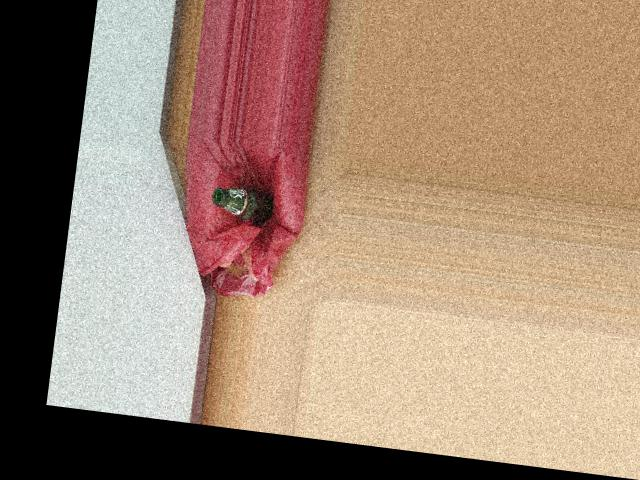beer: (210, 181, 276, 224)
